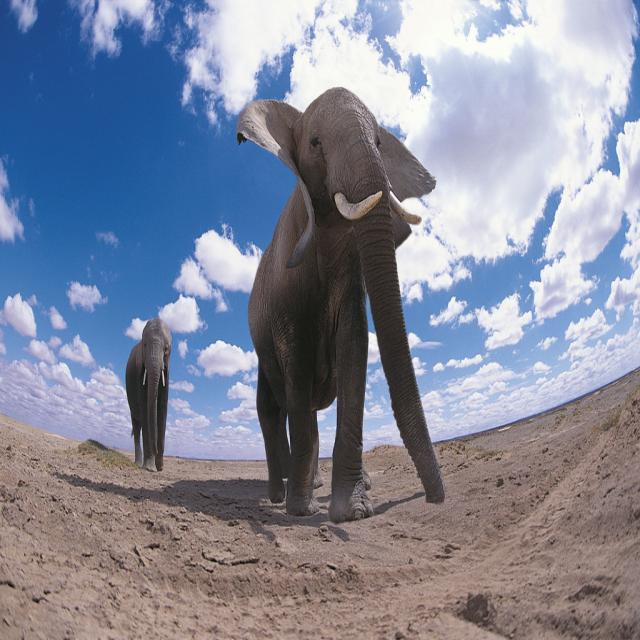Elephant: (236, 69, 449, 530), (122, 314, 170, 471)
